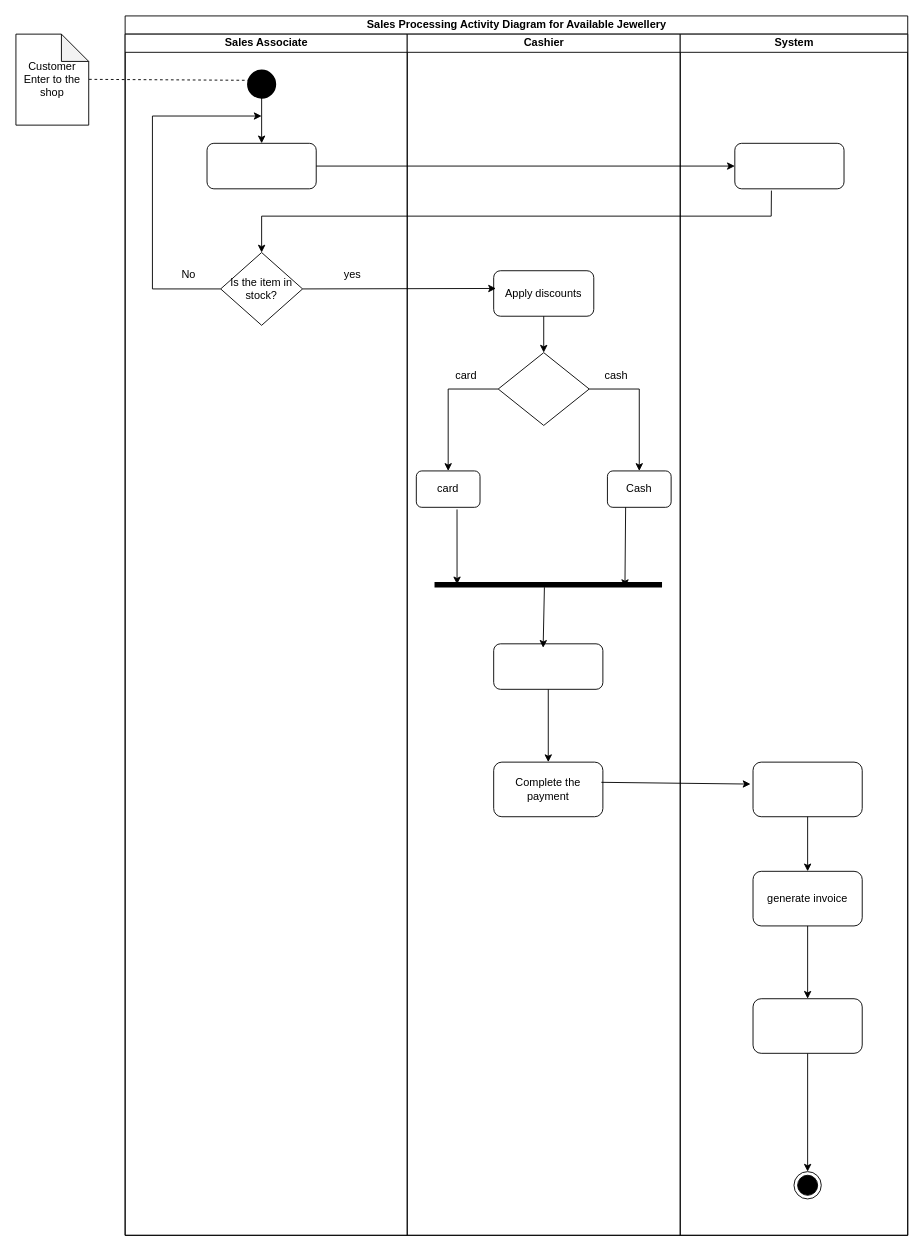
This 924x1251 diagram has some shape labels left out. The shapes that lost their labels are listed below. From the top down, each one's centre as x and y in pixels, then its label:
At [261,165]: "request item details".
At [789,165]: "collect data".
At [543,388]: "record the payment method".
At [548,666]: "Proceed payment".
At [807,789]: "Update inventory".
At [807,1025]: "display recent sales".
